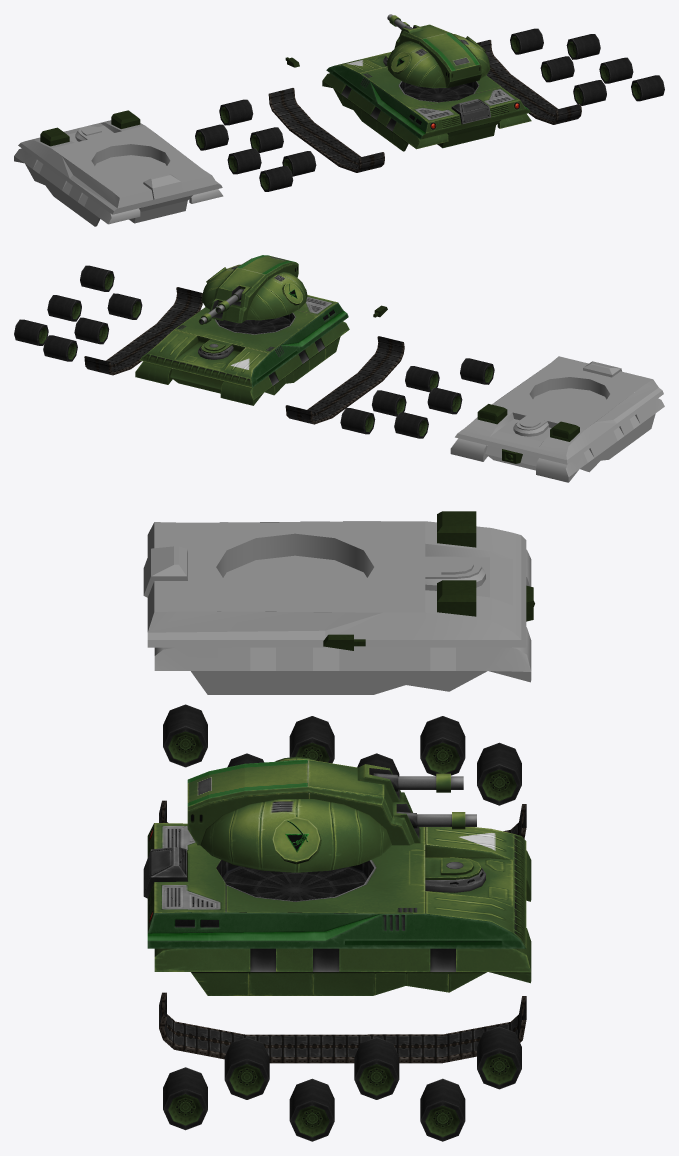
The model's file is demolisher_ex.FBX.
3 renders of one model, top to bottom at view 1: azimuth 30°, elevation 25°; view 2: azimuth 150°, elevation 25°; view 3: azimuth 270°, elevation 25°, orthographic. The views are drawn at different scales.
Visible parts, largest first — view 1: body001, body, turret, trackr, trackl, Box005, wheel12, wheel9, wheel7, wheel1, wheel10, wheel2 (+6 smaller); view 2: body001, body, turret, trackr, trackl, Box005, wheel9, wheel11, wheel6, wheel7, wheel12, wheel10 (+6 smaller); view 3: body001, body, turret, trackl, Box005, wheel11, wheel9, wheel8, wheel10, wheel1, wheel6, wheel12 (+4 smaller).
Part boxes in pixels (x1,y1,x2,y2): body001: [14, 120, 223, 226]; body: [322, 52, 531, 151]; turret: [387, 24, 490, 88]; trackr: [268, 88, 384, 172]; trackl: [477, 40, 581, 124]; Box005: [40, 110, 140, 146]; wheel12: [631, 75, 664, 101]; wheel9: [540, 56, 574, 82]; wheel7: [510, 28, 543, 54]; wheel1: [219, 99, 253, 125]; wheel10: [599, 57, 633, 83]; wheel2: [195, 124, 228, 150]; body001: [450, 356, 664, 482]; body: [135, 289, 349, 405]; turret: [201, 255, 307, 323]; trackr: [285, 336, 404, 424]; trackl: [84, 287, 202, 375]; Box005: [477, 404, 579, 463]; wheel9: [74, 317, 109, 344]; wheel11: [107, 293, 142, 319]; wheel6: [460, 358, 494, 384]; wheel7: [43, 335, 77, 361]; wheel12: [80, 265, 114, 291]; wheel10: [47, 295, 81, 321]; body001: [143, 521, 531, 694]; body: [143, 823, 531, 995]; turret: [187, 757, 420, 872]; trackl: [159, 992, 526, 1063]; Box005: [437, 511, 534, 621]; wheel11: [224, 1037, 269, 1099]; wheel9: [354, 1037, 399, 1099]; wheel8: [420, 1078, 465, 1141]; wheel10: [289, 1078, 334, 1141]; wheel1: [477, 742, 521, 805]; wheel6: [163, 704, 207, 767]; wheel12: [163, 1067, 207, 1130].
Bounding box in the file's own units: 155 × 24.97 × 47.06.
Materials: 2 (1 with a texture image).
